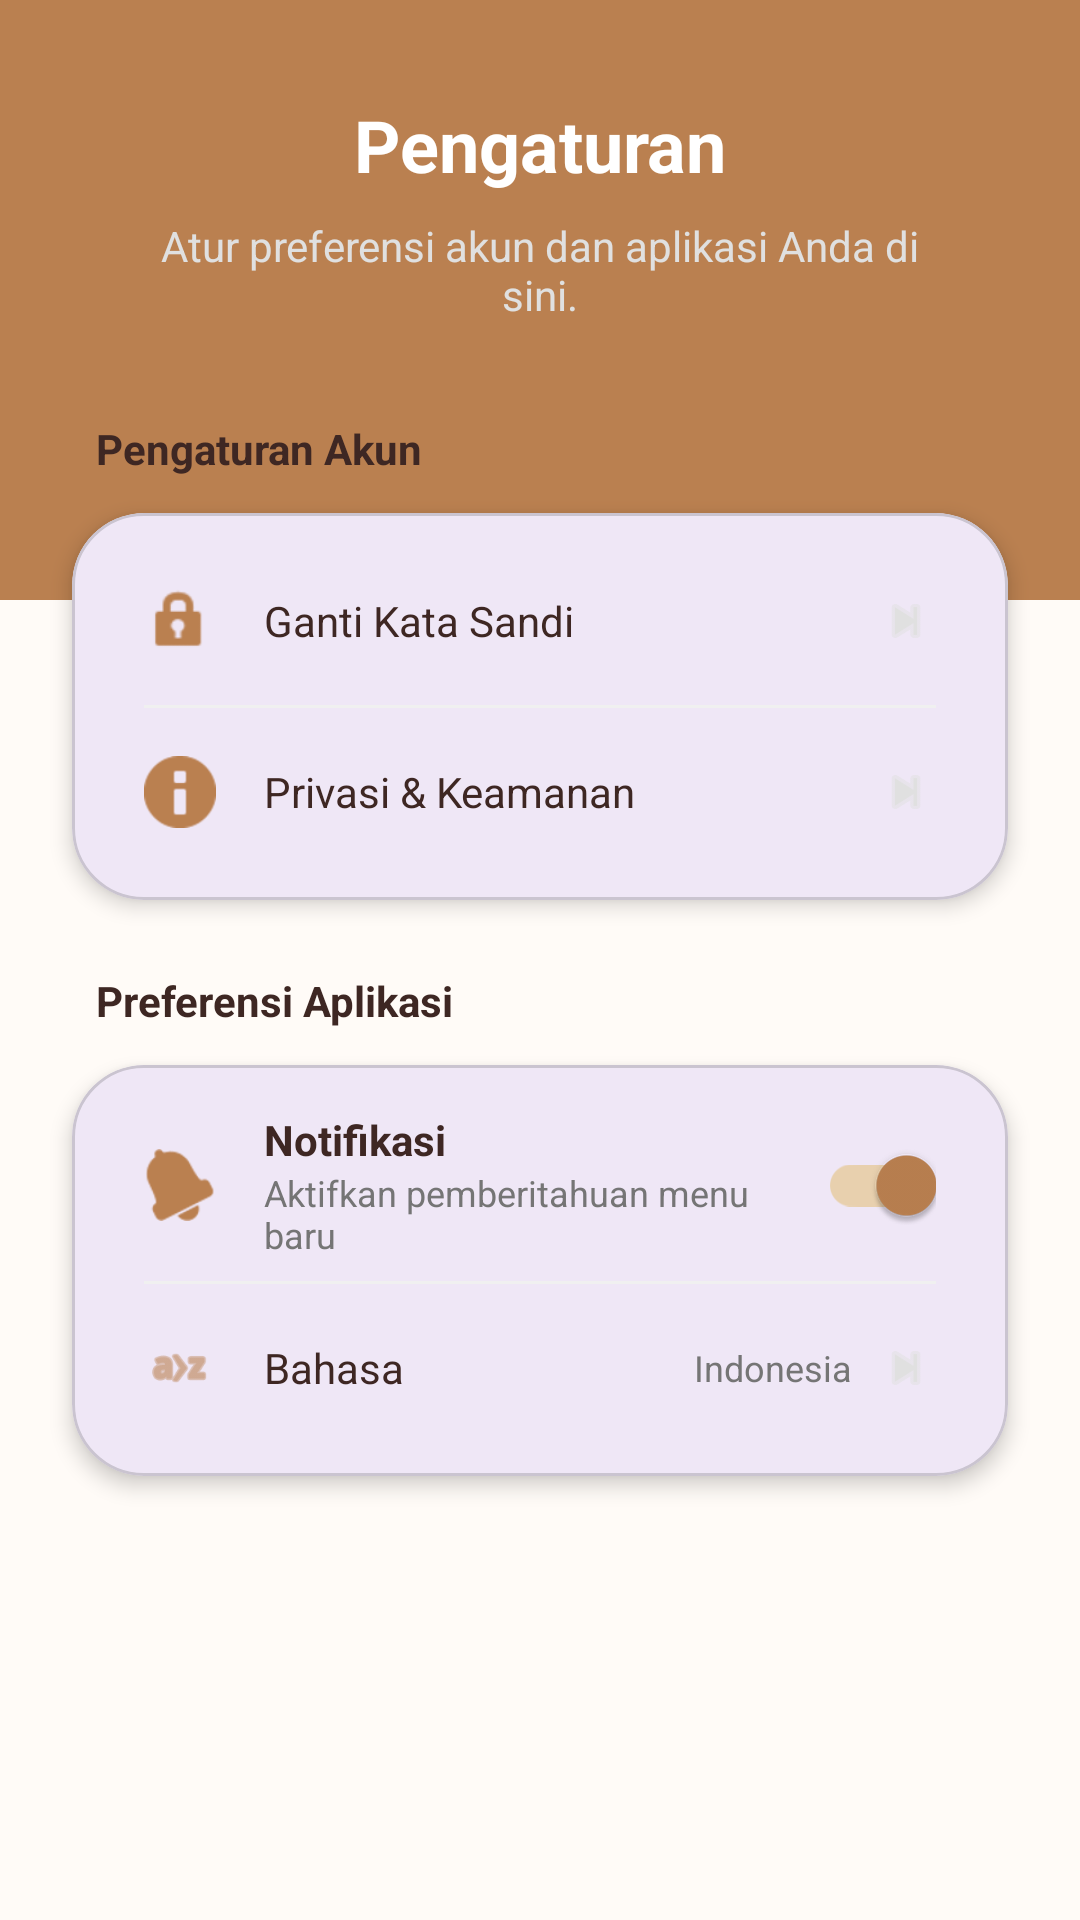

Point at icon controls on the screen. Image size 1080 × 1920, points as (x,y).
info: (180,792)
lock idle: (178,618)
popup reminder: (180,1185)
sort alphabetically: (179,1368)
